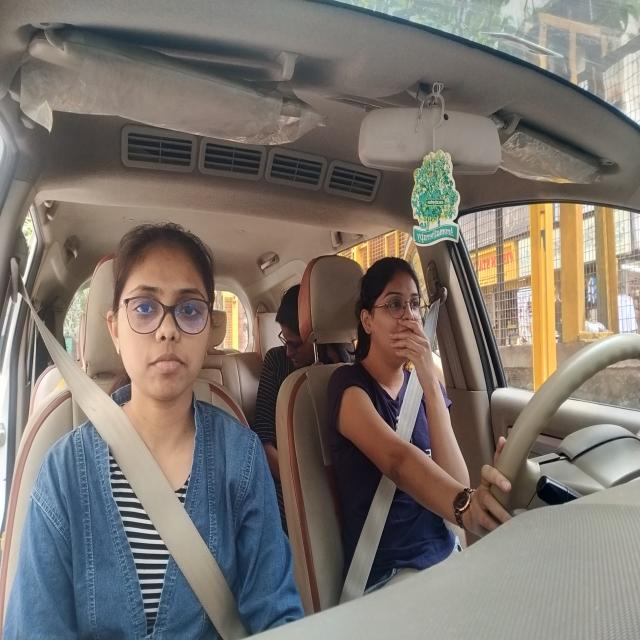drowsy: (358, 266, 430, 364)
person: (116, 229, 215, 403), (274, 292, 306, 366)
